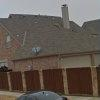Chimney: (57, 2, 87, 41)
